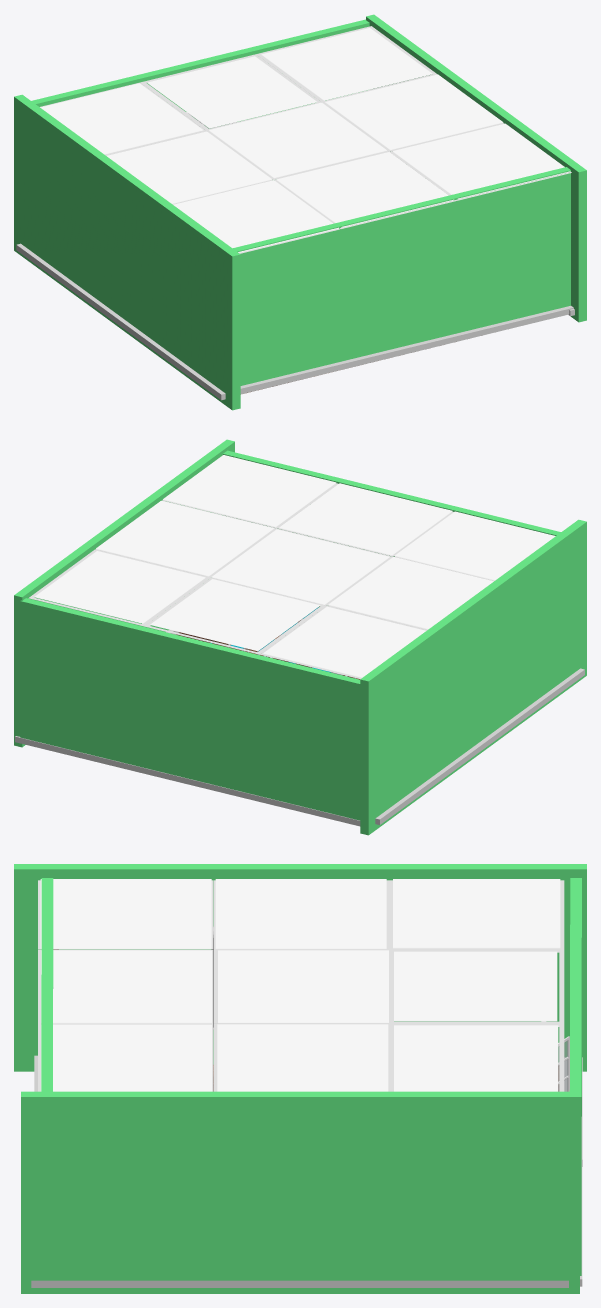
The model's file is modeloAula3.glb.
The picture shows the model from 3 angles, top to bottom: view 1: azimuth 30°, elevation 25°; view 2: azimuth 150°, elevation 25°; view 3: azimuth 270°, elevation 25°; orthographic projection. The views are drawn at different scales.
Parts seen in each view (by area): view 1: Cubo.001, Cube.004, Cube, Cube.002, Cube.006, Cube.005, Cube.001; view 2: Cubo.001, Cube.006, Cube, Cube.002, Cube.007, Cube.001, Cube.004; view 3: Cubo.001, Cube.002, Cube, Cube.003, Cube.006, Cube.004.
Part boxes in pixels (<box>): Cubo.001: <box>40,26,571,253</box>; Cube.004: <box>233,167,570,385</box>; Cube: <box>14,94,240,410</box>; Cube.002: <box>366,14,586,322</box>; Cube.006: <box>31,19,369,128</box>; Cube.005: <box>240,306,573,394</box>; Cube.001: <box>16,243,225,400</box>; Cubo.001: <box>28,455,555,679</box>; Cube.006: <box>20,598,360,820</box>; Cube: <box>360,519,586,835</box>; Cube.002: <box>14,439,234,747</box>; Cube.007: <box>15,736,360,826</box>; Cube.001: <box>375,668,584,824</box>; Cube.004: <box>223,450,560,606</box>; Cubo.001: <box>38,879,564,1091</box>; Cube.002: <box>21,1091,579,1293</box>; Cube: <box>14,864,586,1071</box>; Cube.003: <box>31,1280,568,1287</box>; Cube.006: <box>569,878,581,1275</box>; Cube.004: <box>41,878,53,1091</box>.
Size of the model in its own units: 10.45 by 4.25 by 10.92.
Materials: 52 (5 with a texture image).
